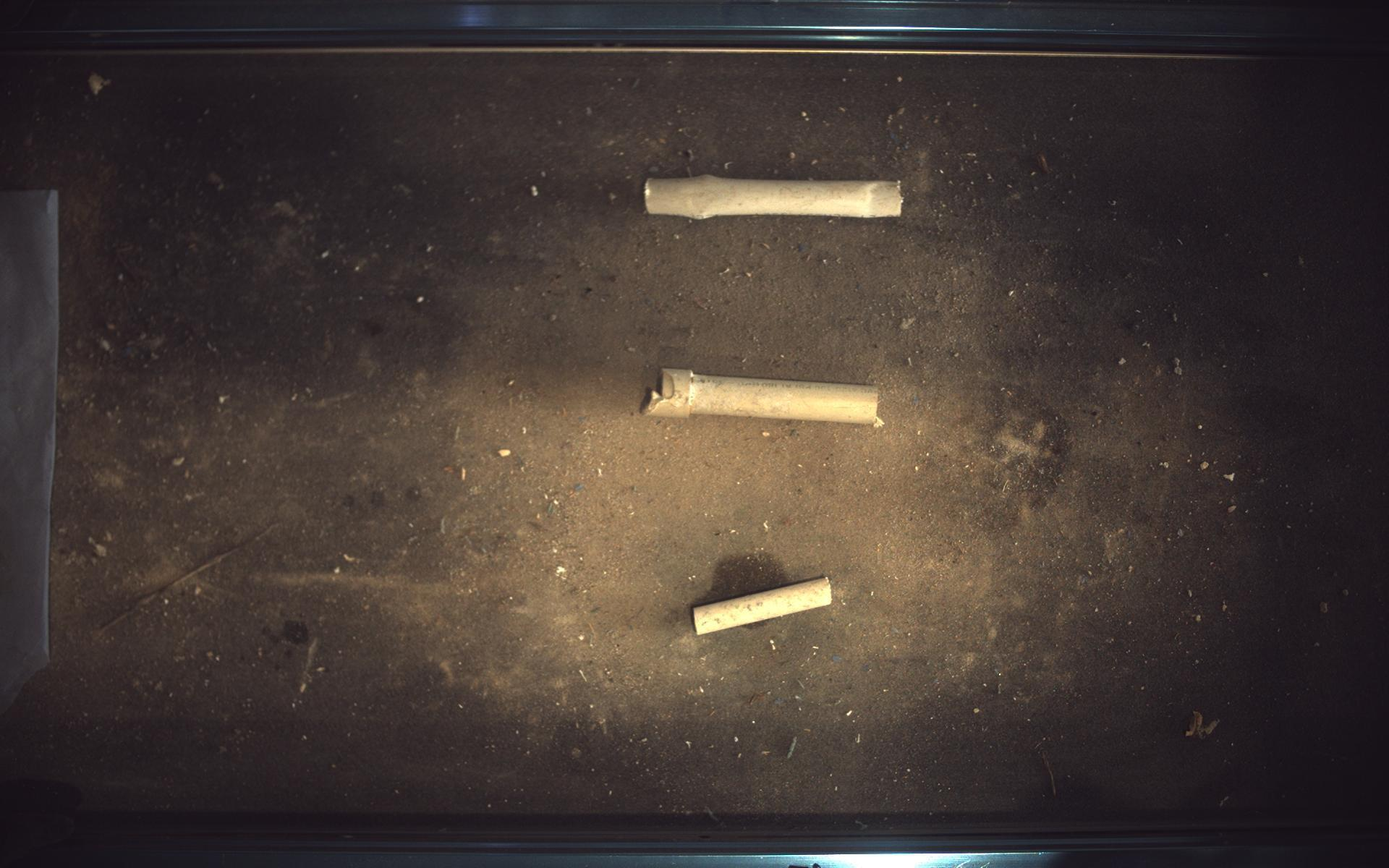pipes: (644, 368, 883, 426), (645, 174, 904, 218), (694, 578, 833, 636)
